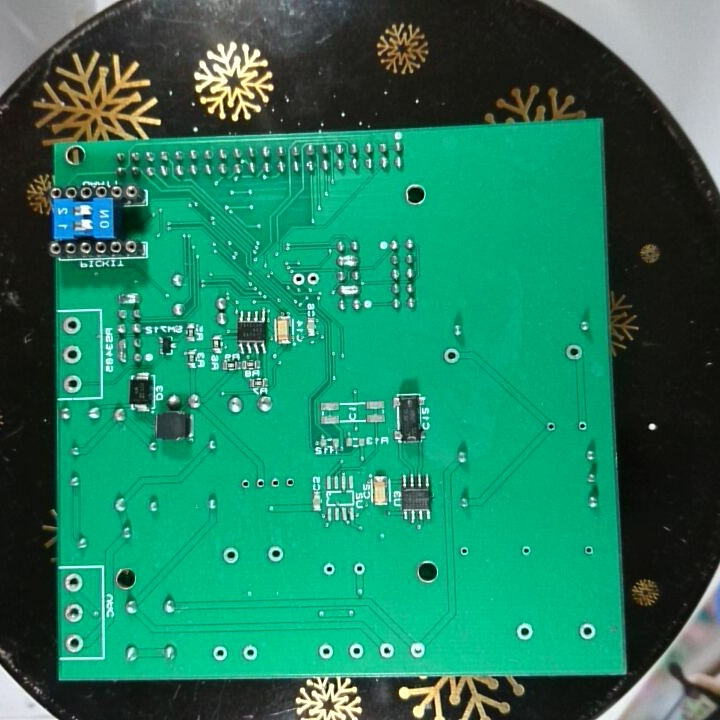F: (62, 601, 85, 625), (62, 571, 86, 593), (563, 340, 585, 363), (64, 631, 85, 655), (576, 620, 598, 642), (61, 315, 82, 338), (62, 372, 83, 395), (62, 343, 82, 367), (441, 346, 465, 366), (514, 620, 535, 642), (346, 640, 366, 661), (209, 643, 228, 665), (266, 543, 284, 566), (239, 643, 260, 662), (221, 543, 239, 565), (317, 640, 334, 663), (407, 640, 425, 660), (377, 639, 394, 660), (251, 473, 268, 494), (541, 416, 559, 435), (320, 559, 337, 578), (290, 269, 306, 289), (305, 269, 320, 289), (580, 543, 597, 560), (457, 542, 473, 560), (351, 560, 367, 577), (282, 474, 297, 492), (517, 543, 534, 558), (269, 473, 282, 492), (575, 417, 588, 435), (239, 476, 251, 491)
P: (114, 289, 142, 306), (336, 280, 362, 298), (336, 252, 362, 269), (114, 335, 128, 363)
